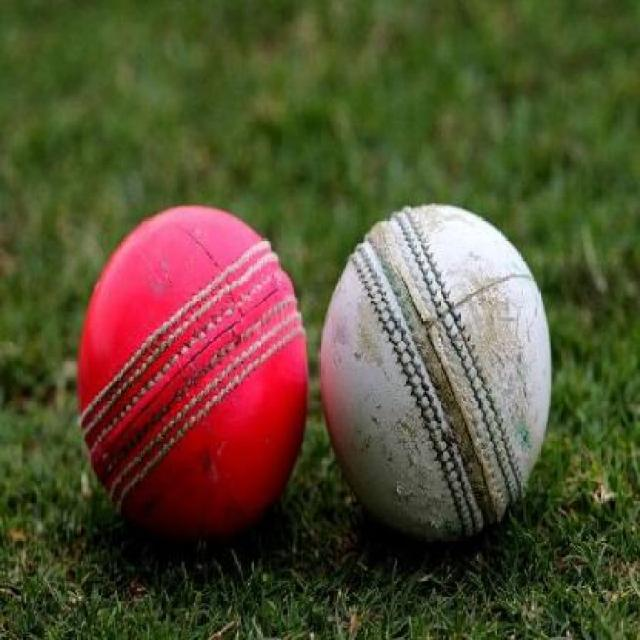ball: (47, 177, 310, 552), (324, 173, 563, 555)
